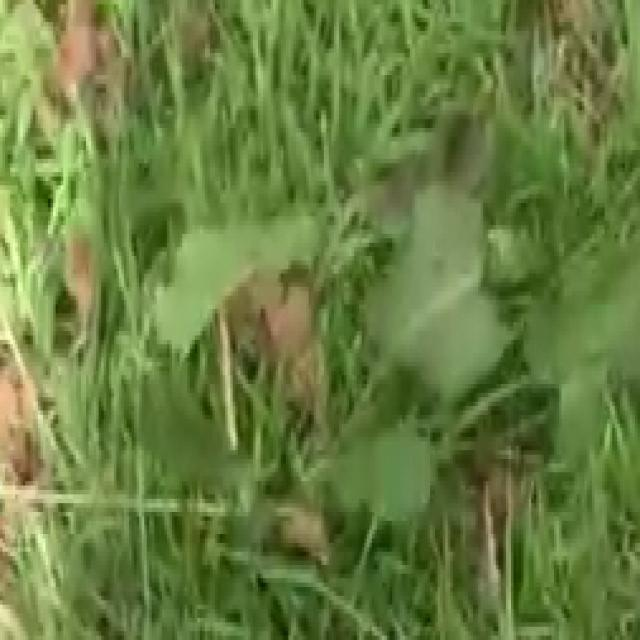organic waste: (129, 163, 640, 565)
